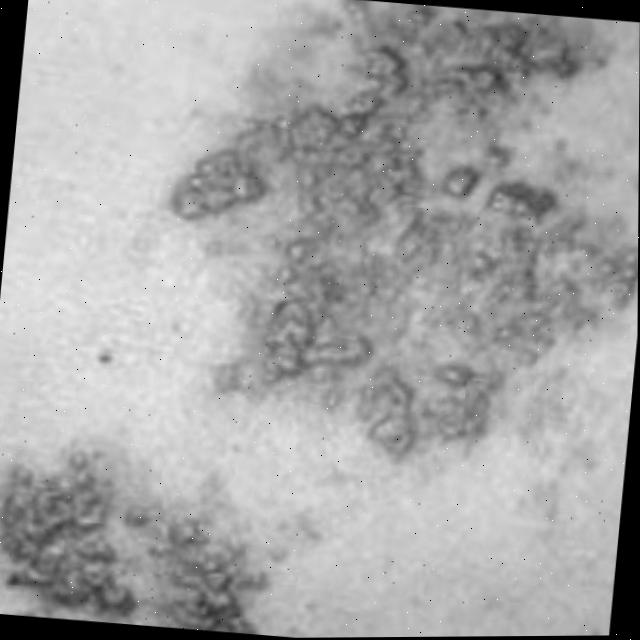Shingles: (156, 0, 640, 465), (0, 459, 265, 635)
